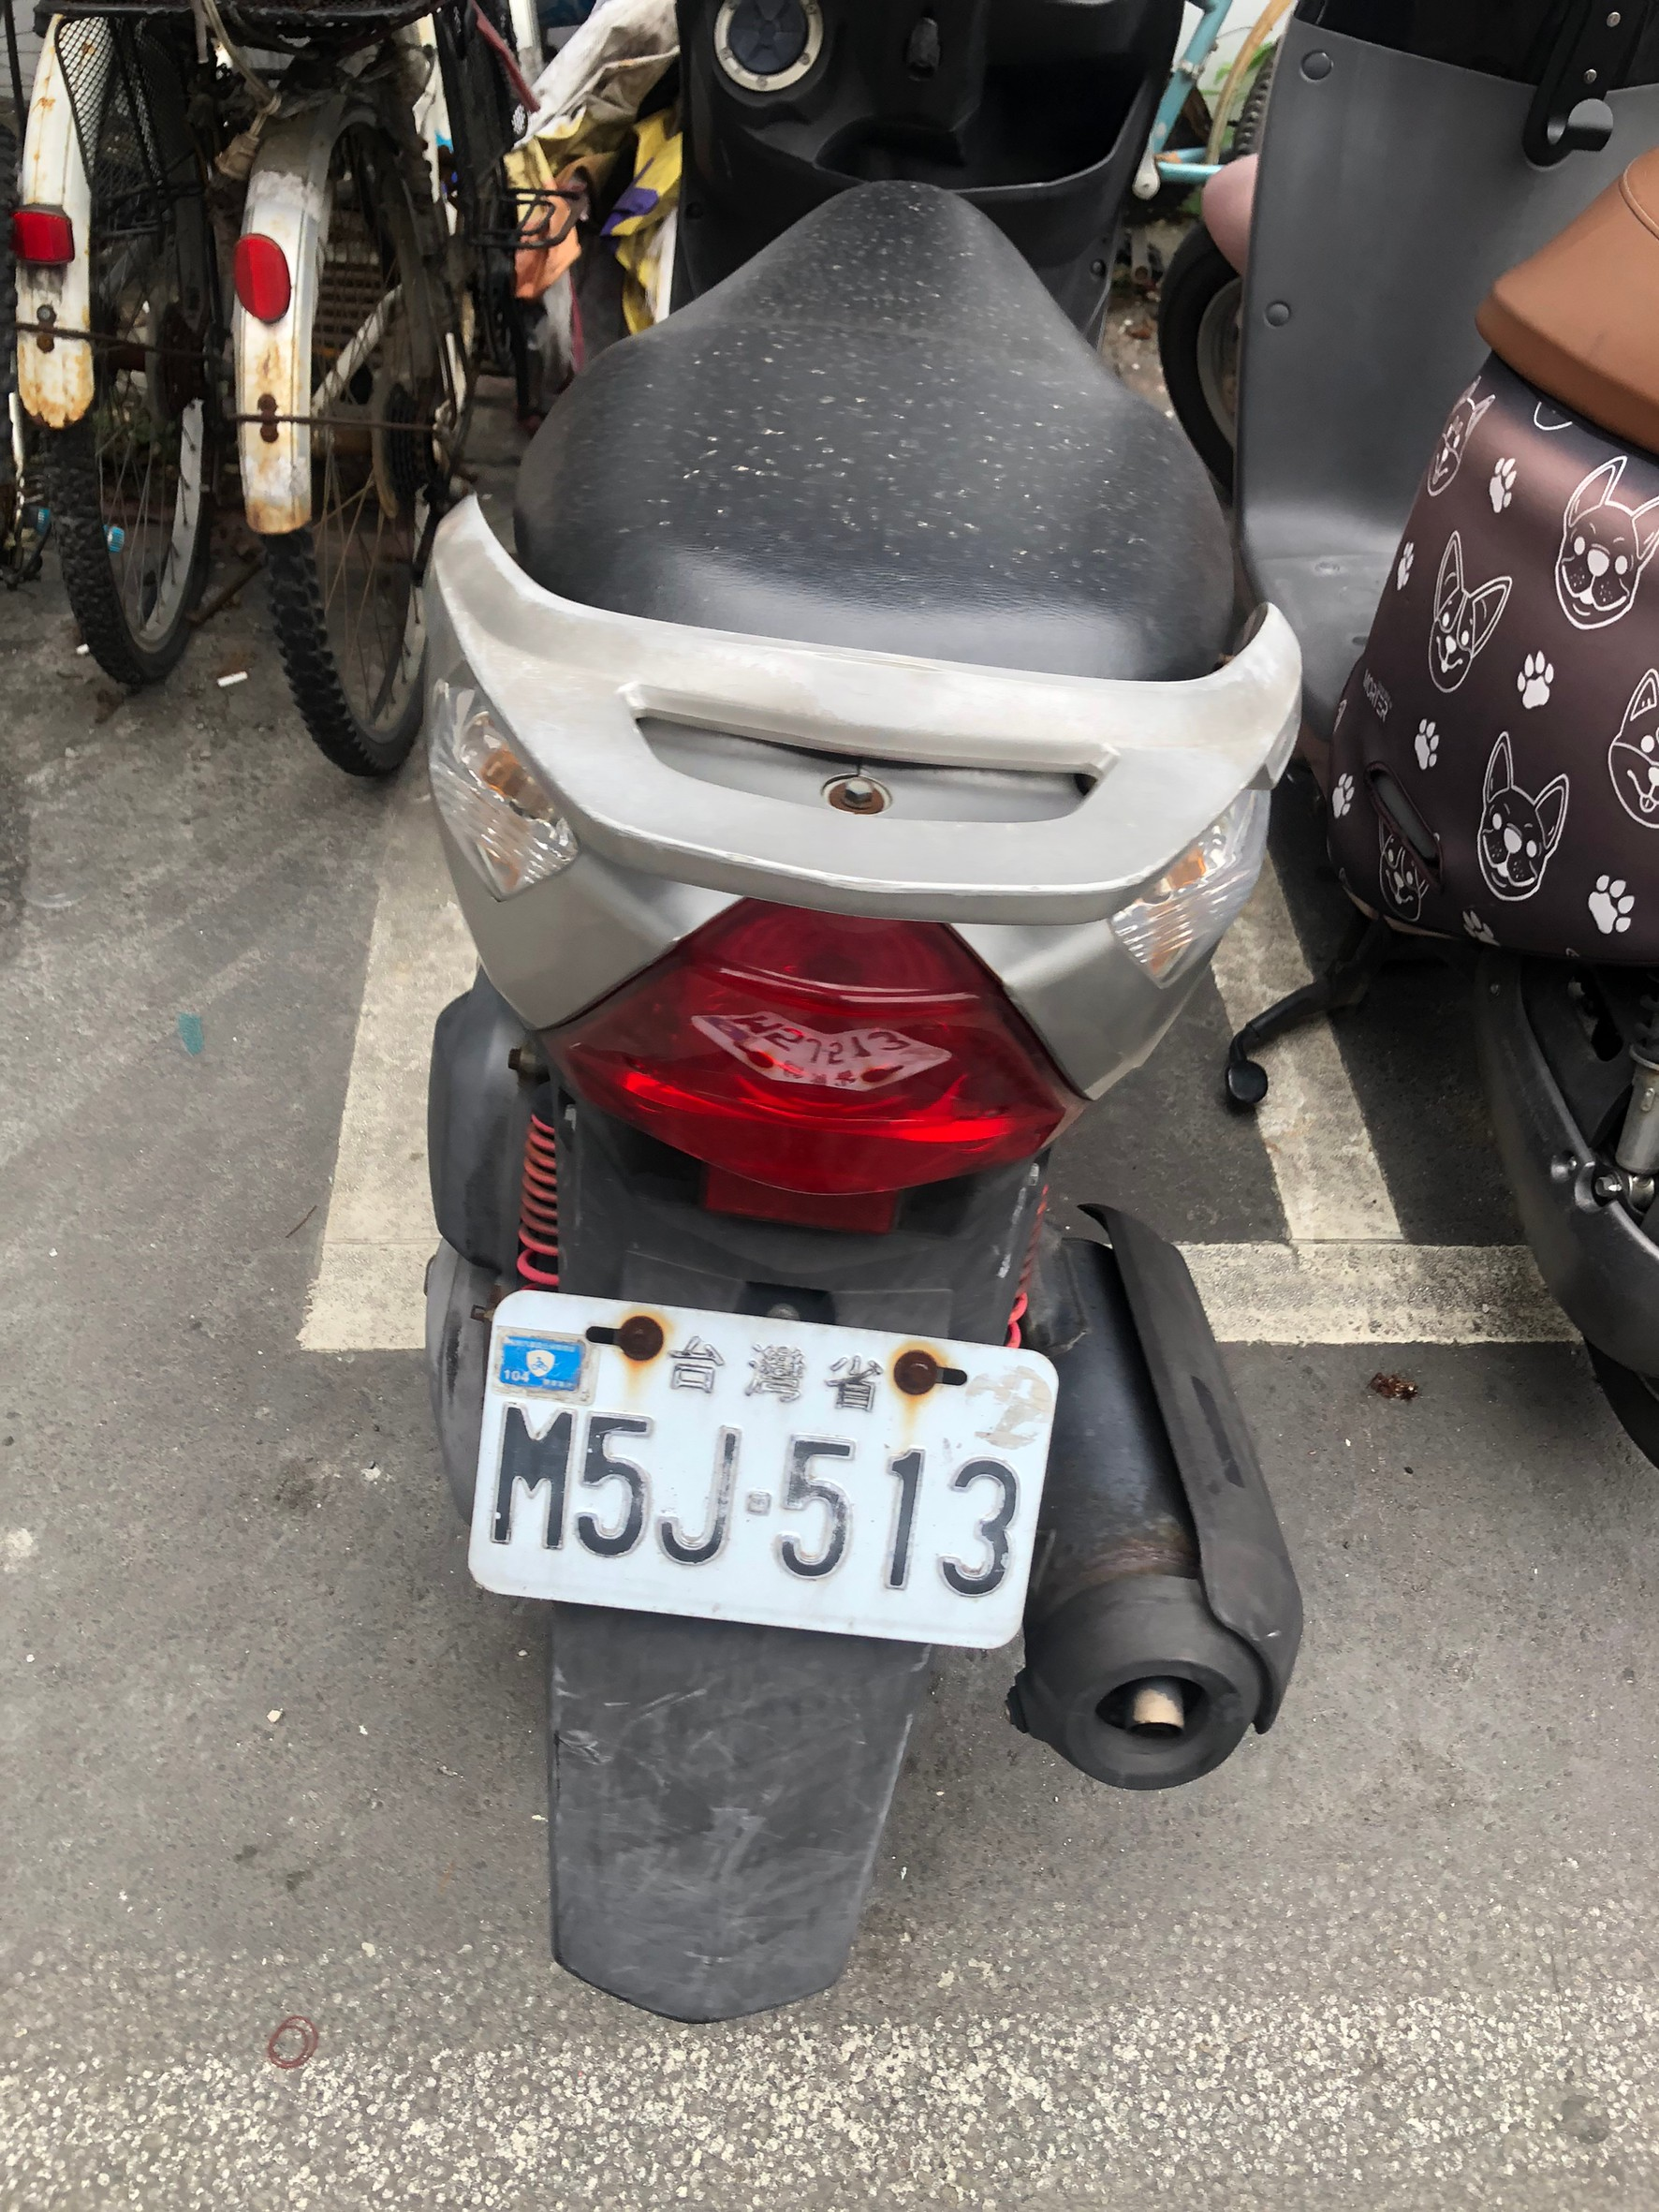LP: (488, 1288, 1040, 1652)
